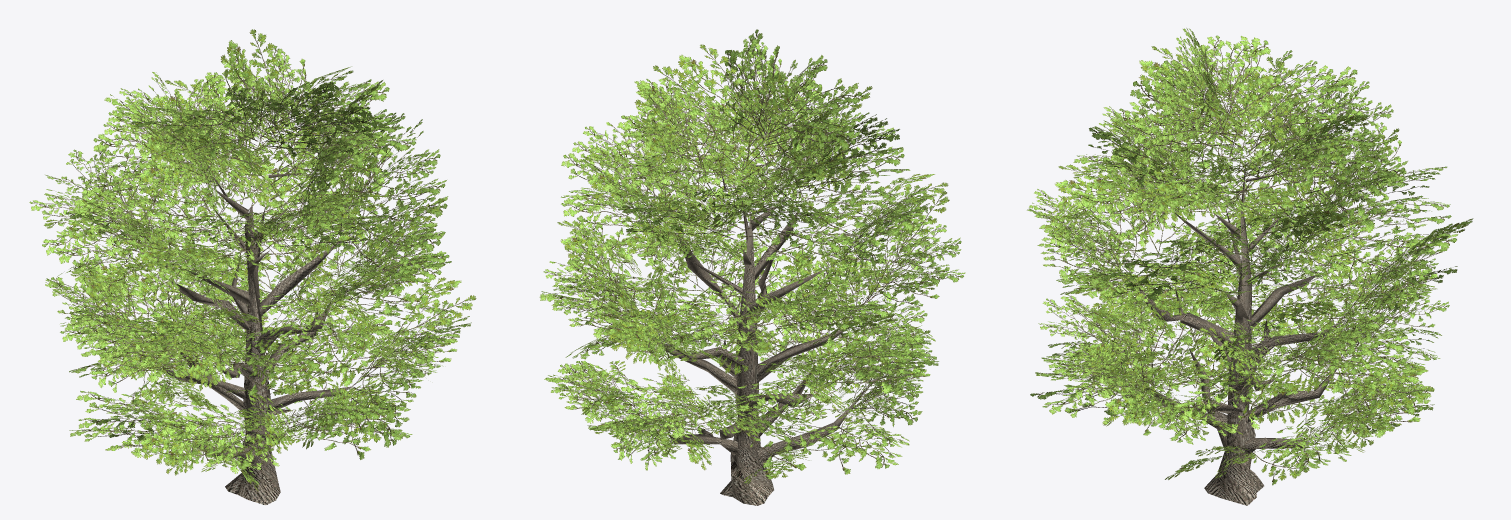
The model's file is oak.fbx.
The picture shows the model from 3 angles, left to right: view 1: azimuth 30°, elevation 25°; view 2: azimuth 150°, elevation 25°; view 3: azimuth 270°, elevation 25°; orthographic projection. The views are drawn at different scales.
Visible parts, largest first — view 1: oak; view 2: oak; view 3: oak.
Boxes of the visible parts, left/top/right/bottom form: oak: left=29, top=29, right=476, bottom=505; oak: left=539, top=29, right=965, bottom=505; oak: left=1027, top=28, right=1473, bottom=505.
Size of the model in its own units: 3309 by 3602 by 3544.
